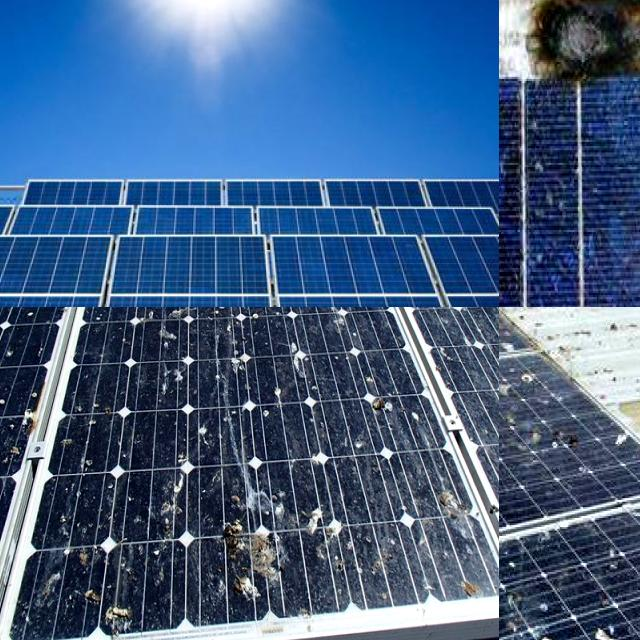bird: (206, 499, 299, 618), (61, 510, 156, 625), (309, 350, 427, 441), (0, 334, 38, 591), (187, 307, 268, 379), (387, 307, 499, 359), (0, 307, 124, 338), (162, 307, 339, 328), (413, 476, 457, 558), (499, 492, 544, 561), (151, 307, 274, 328), (499, 400, 537, 464), (499, 307, 546, 350), (499, 379, 523, 460), (543, 414, 579, 468), (499, 466, 517, 556), (590, 595, 625, 640), (499, 307, 540, 339), (499, 565, 522, 616), (499, 312, 524, 356), (521, 616, 556, 640), (499, 307, 523, 336)
crack: (248, 226, 488, 307), (99, 231, 297, 307), (0, 233, 163, 307), (419, 233, 499, 307)
shadow: (531, 0, 640, 307)
